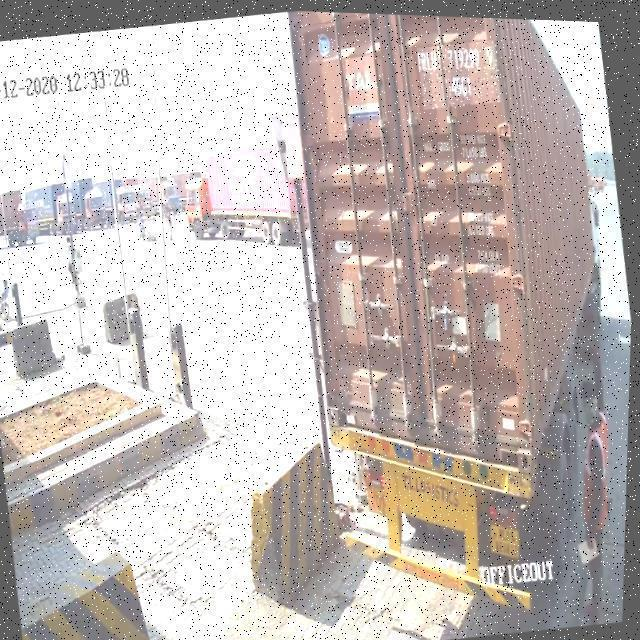ISO: (448, 74, 479, 100)
container_number: (413, 46, 501, 76)
